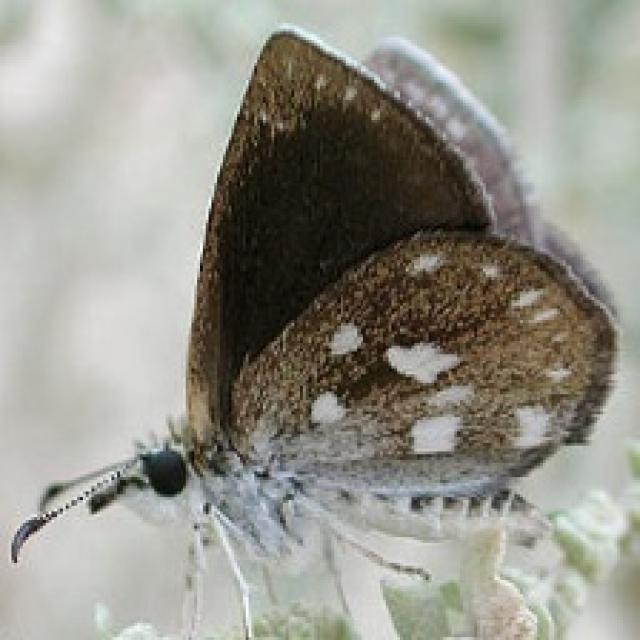butterfly: (9, 23, 620, 637)
